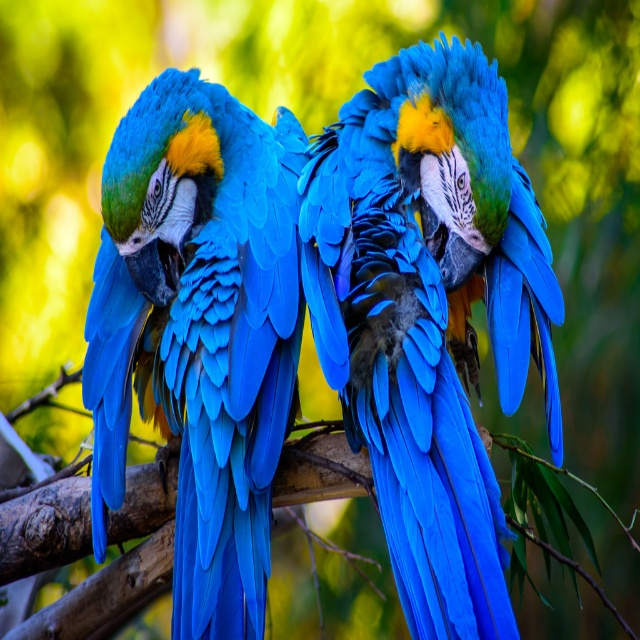Parrot: (300, 32, 564, 639), (81, 64, 310, 639)
